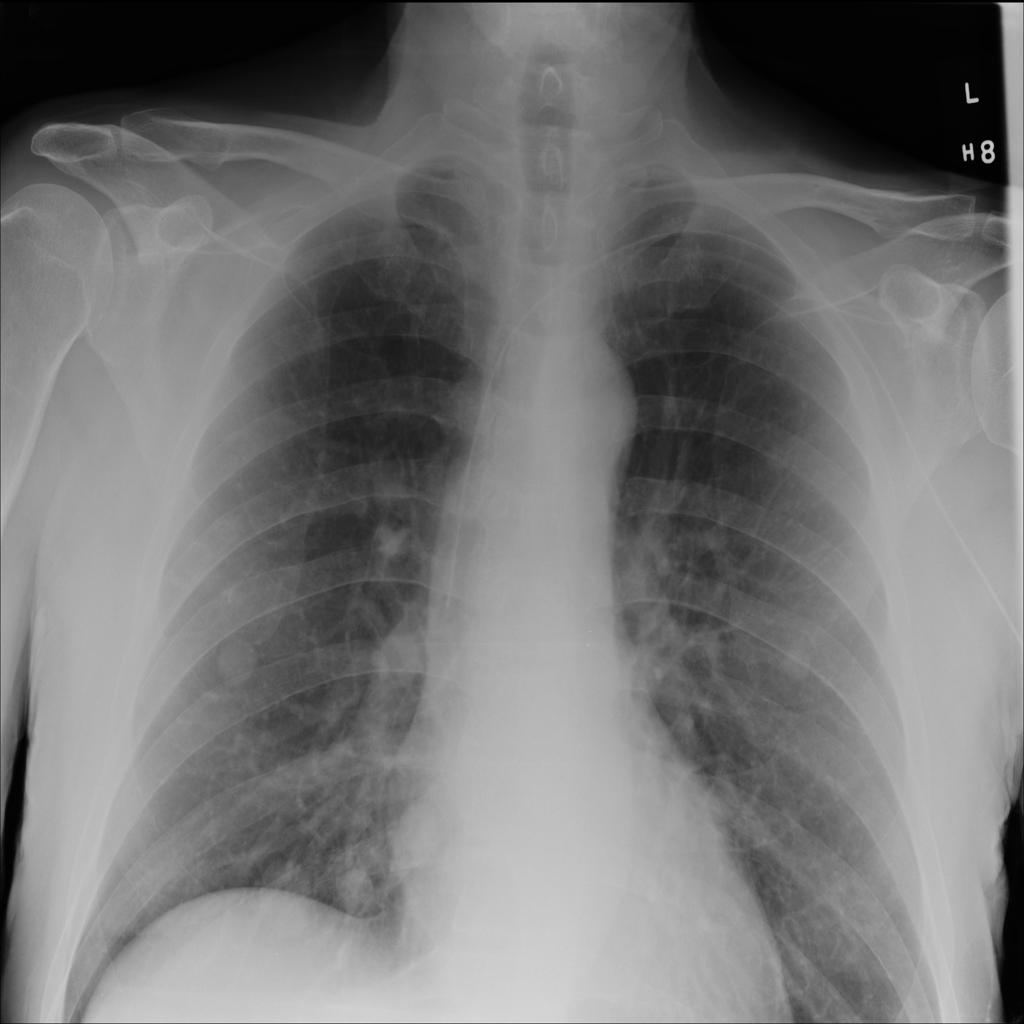nodule: (380, 787, 453, 877), (244, 843, 324, 923), (764, 621, 832, 699), (325, 847, 391, 927), (197, 630, 269, 702)
